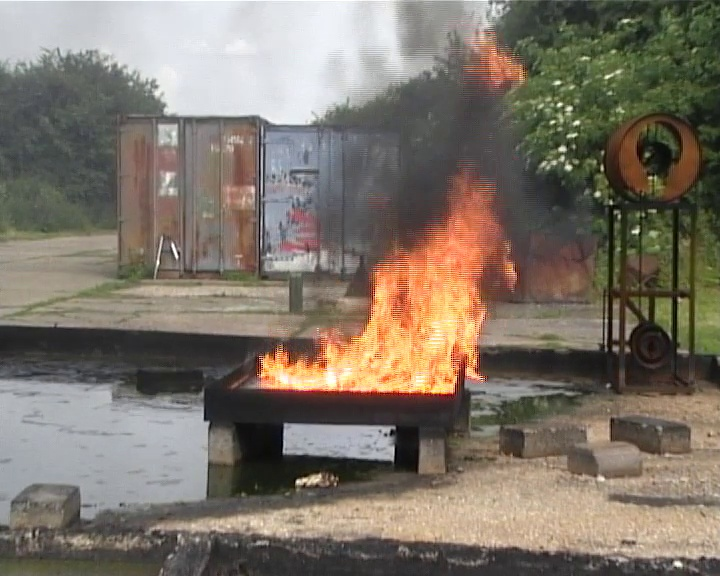fire: (257, 187, 504, 390)
